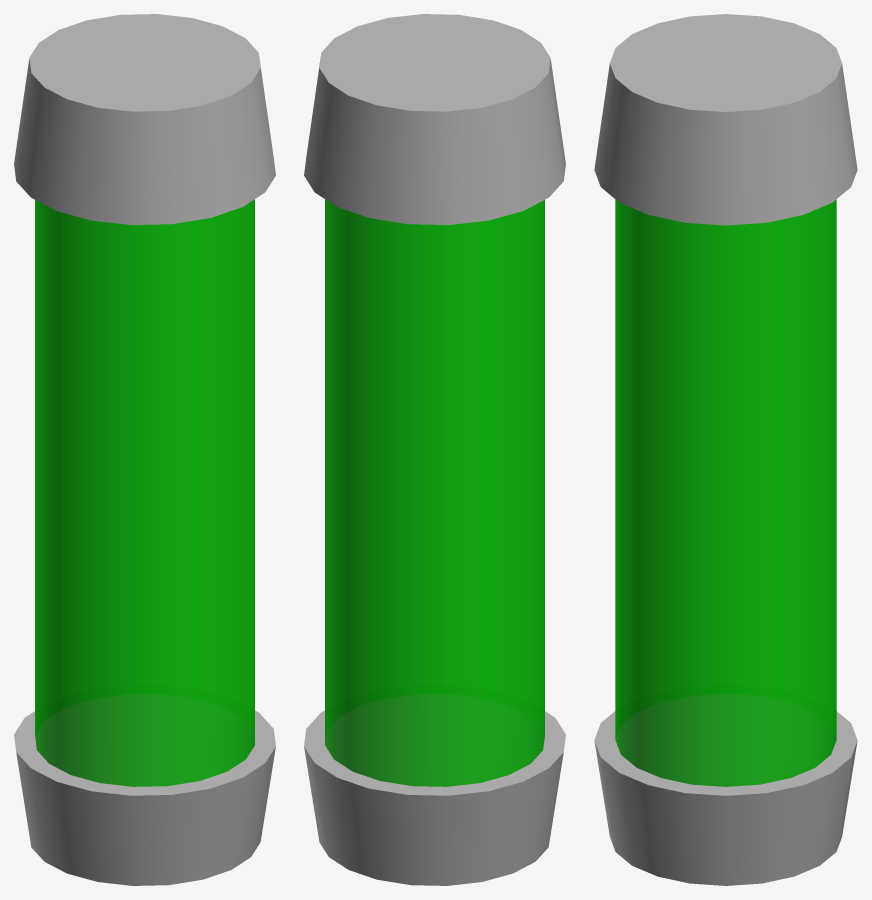
Rendered from VR_Rod.fbx.
The picture shows the model from 3 angles, left to right: view 1: azimuth 30°, elevation 25°; view 2: azimuth 150°, elevation 25°; view 3: azimuth 270°, elevation 25°; orthographic projection.
Parts seen in each view (by area): view 1: pasted__pCylinder3; view 2: pasted__pCylinder3; view 3: pasted__pCylinder3.
Part boxes in pixels (x1,y1,x2,y2): pasted__pCylinder3: (14, 14, 275, 885); pasted__pCylinder3: (304, 14, 565, 885); pasted__pCylinder3: (594, 14, 857, 885).
Size of the model in its own units: 2.38 by 7.73 by 2.38.
